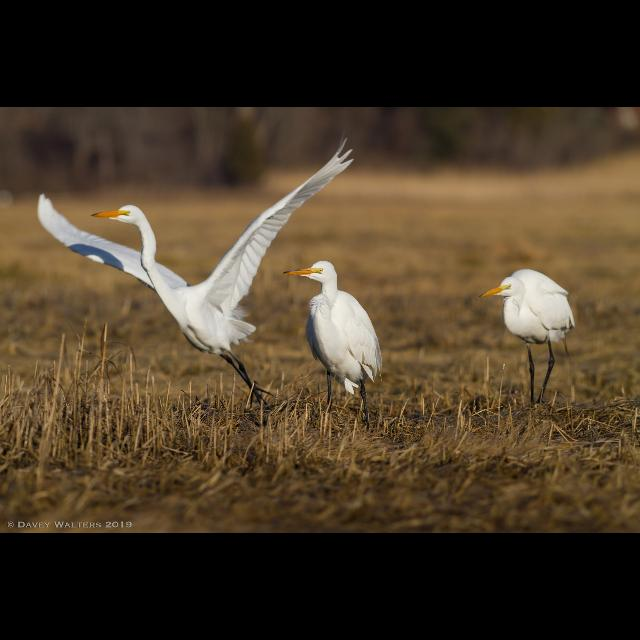egret: (29, 123, 359, 405), (279, 255, 405, 425), (476, 267, 580, 409)
